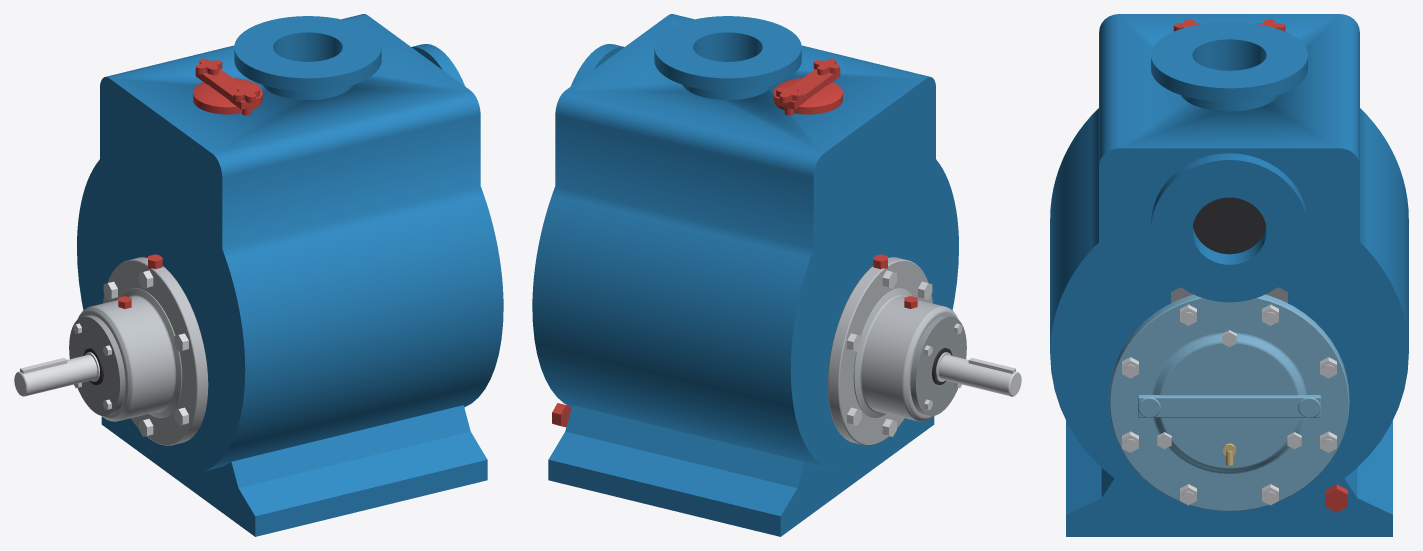
3 renders of one model, left to right at view 1: azimuth 30°, elevation 25°; view 2: azimuth 150°, elevation 25°; view 3: azimuth 270°, elevation 25°, orthographic. The views are drawn at different scales.
Visible parts, largest first — view 1: BC_CASING, BC_DISCHARGE_FLANGE, BC_BEARING_HOUSING, BC_SEAL_HOUSING, BC_BEARING_COVER, BC_FILL_PLUG, BC_SHAFT, BC_ROTATING_ASSEMBLY_SCREWS, BC_SUCTION_FLANGE; view 2: BC_CASING, BC_DISCHARGE_FLANGE, BC_BEARING_HOUSING, BC_SEAL_HOUSING, BC_BEARING_COVER, BC_FILL_PLUG, BC_SHAFT, BC_ROTATING_ASSEMBLY_SCREWS, BC_SUCTION_FLANGE; view 3: BC_CASING, BC_INSPECTION_COVER, BC_SUCTION_FLANGE, BC_DISCHARGE_FLANGE, BC_FLAP_VALVE, BC_COVER_NUTS, BC_COVER_STUDS, BC_WEAR_PLATE_NUTS, BC_DRAIN_PLUG.
Part boxes in pixels (<box>): BC_CASING: <box>77,14,503,536</box>; BC_DISCHARGE_FLANGE: <box>234,16,381,99</box>; BC_BEARING_HOUSING: <box>77,288,181,421</box>; BC_SEAL_HOUSING: <box>103,257,208,445</box>; BC_BEARING_COVER: <box>69,315,125,415</box>; BC_FILL_PLUG: <box>193,58,262,115</box>; BC_SHAFT: <box>14,352,99,396</box>; BC_ROTATING_ASSEMBLY_SCREWS: <box>103,270,188,436</box>; BC_SUCTION_FLANGE: <box>411,44,465,86</box>; BC_CASING: <box>532,14,958,536</box>; BC_DISCHARGE_FLANGE: <box>654,16,801,99</box>; BC_BEARING_HOUSING: <box>854,288,958,421</box>; BC_SEAL_HOUSING: <box>827,257,932,445</box>; BC_BEARING_COVER: <box>910,315,966,415</box>; BC_FILL_PLUG: <box>773,58,842,115</box>; BC_SHAFT: <box>936,352,1021,396</box>; BC_ROTATING_ASSEMBLY_SCREWS: <box>847,270,932,436</box>; BC_SUCTION_FLANGE: <box>570,44,624,86</box>; BC_CASING: <box>1050,14,1408,536</box>; BC_INSPECTION_COVER: <box>1109,294,1349,511</box>; BC_SUCTION_FLANGE: <box>1151,153,1307,302</box>; BC_DISCHARGE_FLANGE: <box>1151,22,1307,111</box>; BC_FLAP_VALVE: <box>1193,197,1265,254</box>; BC_COVER_NUTS: <box>1122,304,1336,505</box>; BC_COVER_STUDS: <box>1124,312,1334,502</box>; BC_WEAR_PLATE_NUTS: <box>1157,330,1301,449</box>; BC_DRAIN_PLUG: <box>1325,484,1347,512</box>.
Bounding box in the file's own units: 0.7225 × 0.6615 × 0.502.
